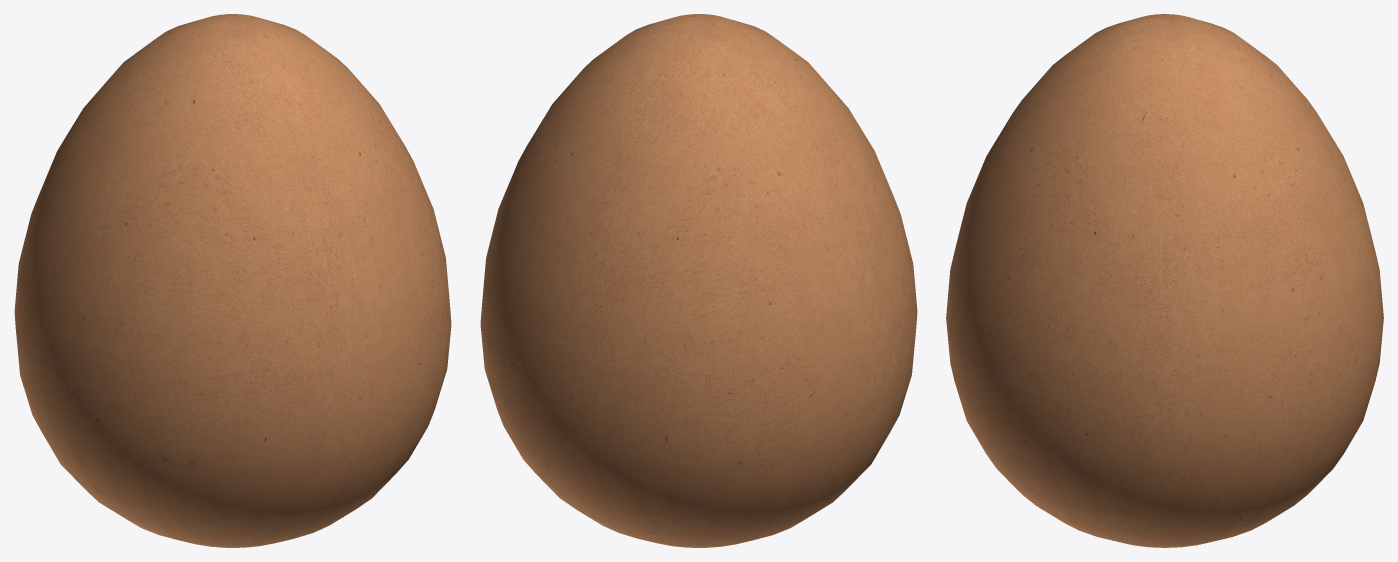
The model's file is Telur.fbx.
The picture shows the model from 3 angles, left to right: view 1: azimuth 30°, elevation 25°; view 2: azimuth 150°, elevation 25°; view 3: azimuth 270°, elevation 25°; orthographic projection.
Visible parts, largest first — view 1: Sphere; view 2: Sphere; view 3: Sphere.
Part boxes in pixels (x1,y1,x2,y2): Sphere: (14, 14, 451, 547); Sphere: (480, 14, 917, 547); Sphere: (946, 14, 1383, 547).
Size of the model in its own units: 200 by 251 by 200.
1 material, 1 textured.
